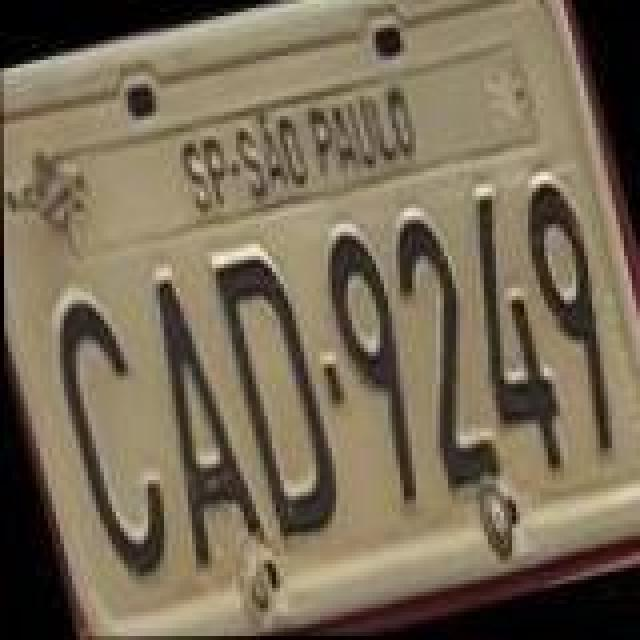2: (380, 208, 508, 492)
4: (440, 190, 576, 486)
9: (314, 224, 446, 520), (516, 174, 640, 470)
A: (122, 268, 270, 576)
C: (40, 290, 180, 586)
D: (204, 246, 348, 546)
